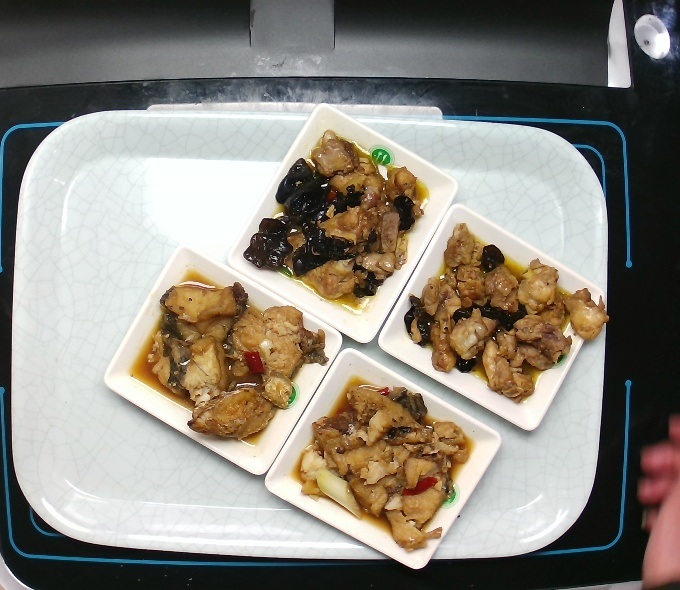wcq-MuErRouKuai: (400, 224, 612, 403), (243, 130, 425, 309)
wcq-YuKuai: (137, 272, 330, 442), (293, 372, 472, 549)
